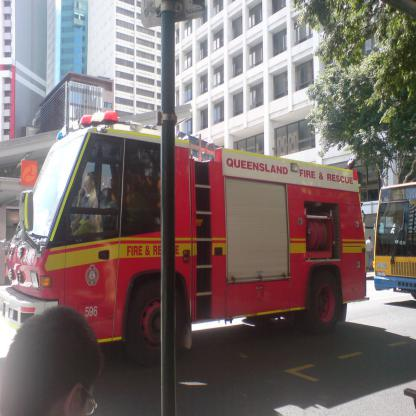Bus: (373, 181, 415, 302)
